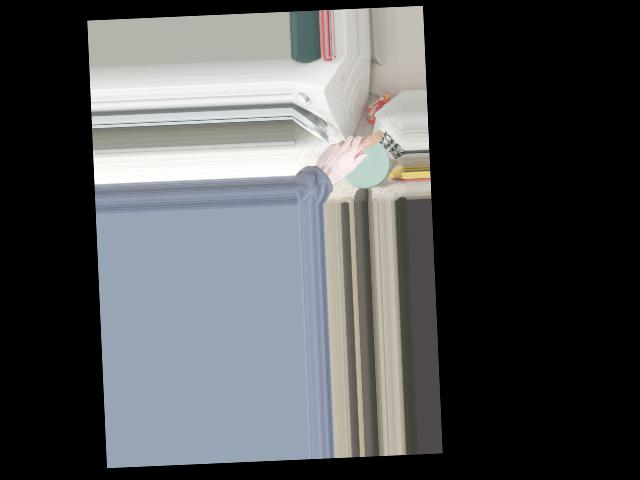sweet_potato: (330, 130, 383, 170)
